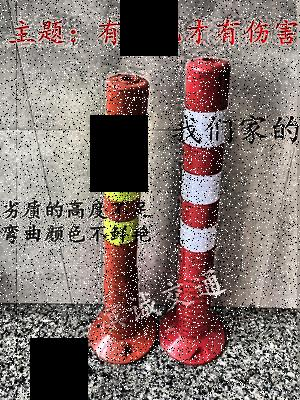bench: (163, 53, 234, 363), (90, 70, 155, 362)
